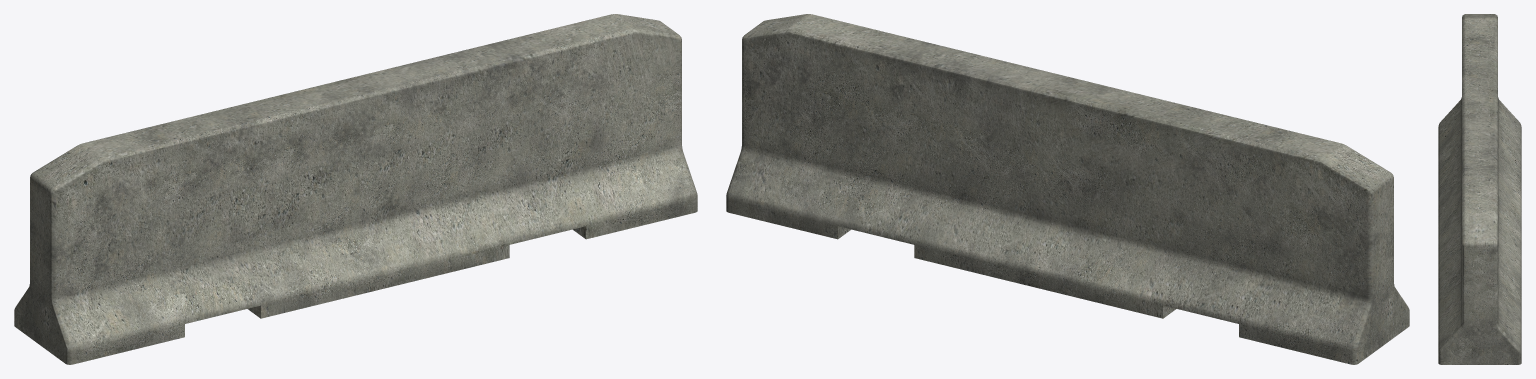
File: concrete-barrier.obj
3 views of the same model, side by side, from view 1: azimuth 30°, elevation 25°; view 2: azimuth 150°, elevation 25°; view 3: azimuth 270°, elevation 25° (orthographic). The views are drawn at different scales.
Visible parts, largest first — view 1: Concrete_Mesh; view 2: Concrete_Mesh; view 3: Concrete_Mesh.
Boxes of the visible parts, <box> form: Concrete_Mesh: <box>14,14,697,364</box>; Concrete_Mesh: <box>726,14,1409,364</box>; Concrete_Mesh: <box>1438,14,1521,364</box>.
Bounding box in the file's own units: 3.75 × 1.03 × 0.5737.
1 material, 1 textured.
